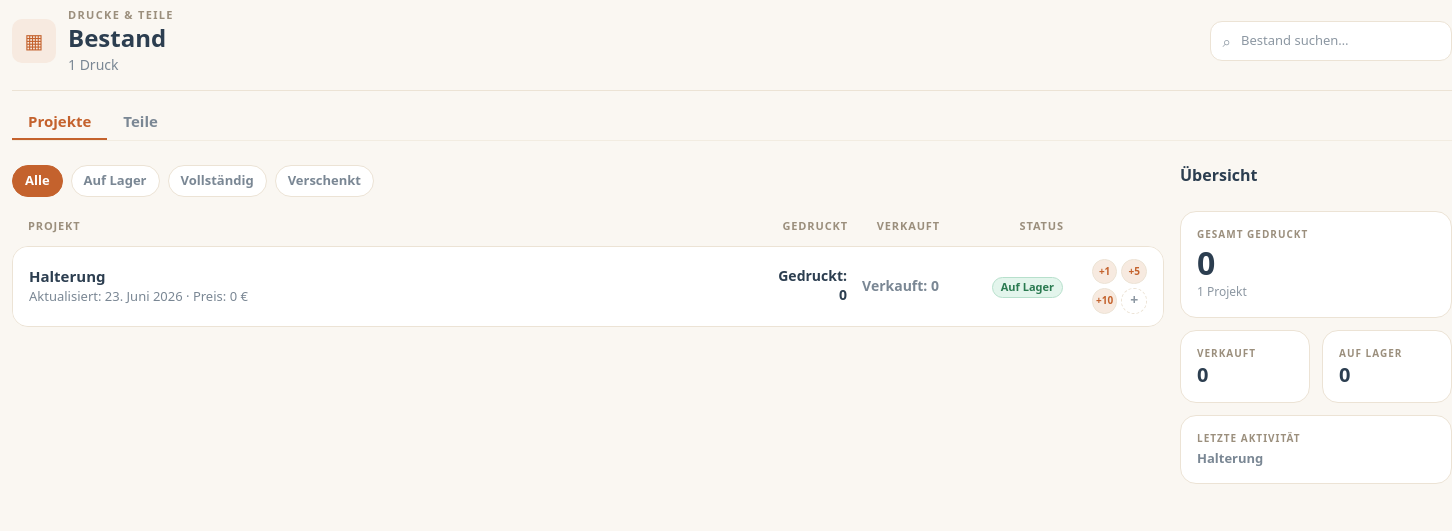
Test: InventoryComponent › shows German warning when stock is clamped to zero during print occurrence
This screenshot has width=1452, height=531.
Click the button with test id "inventory-record-print" at (1105, 271), box [1092,258,1117,284]
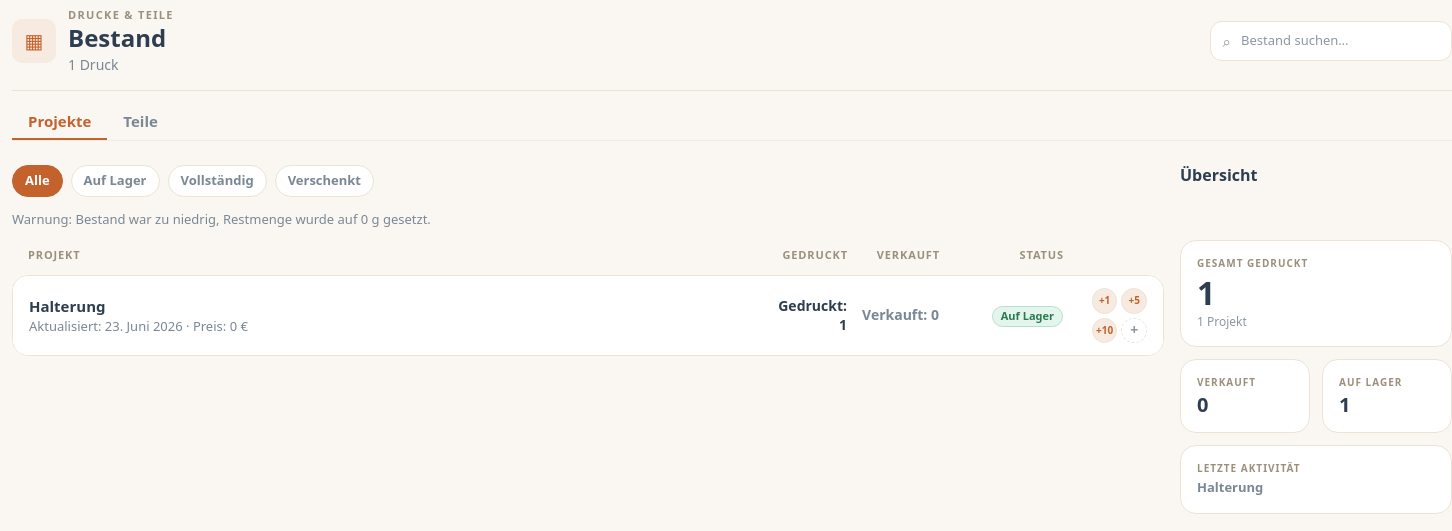
Now the text "Warnung: Bestand war zu niedrig, Restmenge wurde auf 0 g gesetzt." is shown, box [12,210,431,228]
